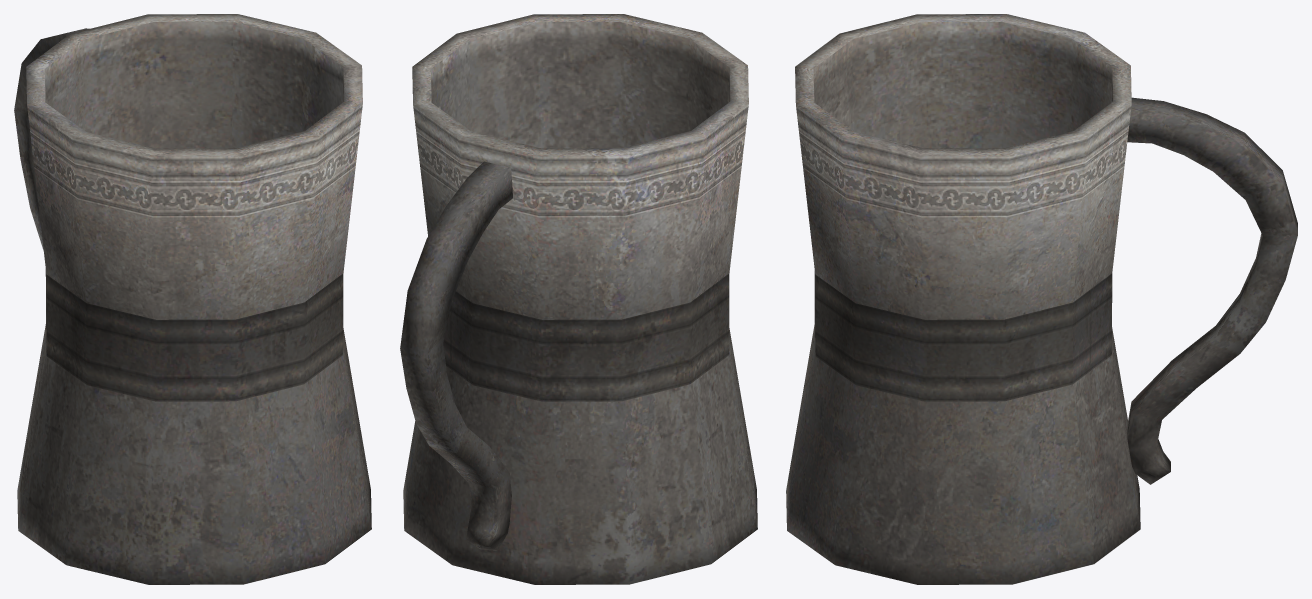
File: mug3.fbx
3 renders of one model, left to right at view 1: azimuth 30°, elevation 25°; view 2: azimuth 150°, elevation 25°; view 3: azimuth 270°, elevation 25°, orthographic.
Parts seen in each view (by area): view 1: polySurface1608; view 2: polySurface1608; view 3: polySurface1608.
Part boxes in pixels (x1=…): polySurface1608: x1=14, y1=14, x2=371, y2=584; polySurface1608: x1=400, y1=14, x2=757, y2=584; polySurface1608: x1=786, y1=14, x2=1297, y2=584.
Bounding box in the file's own units: 0.1812 × 0.2396 × 0.2615.
